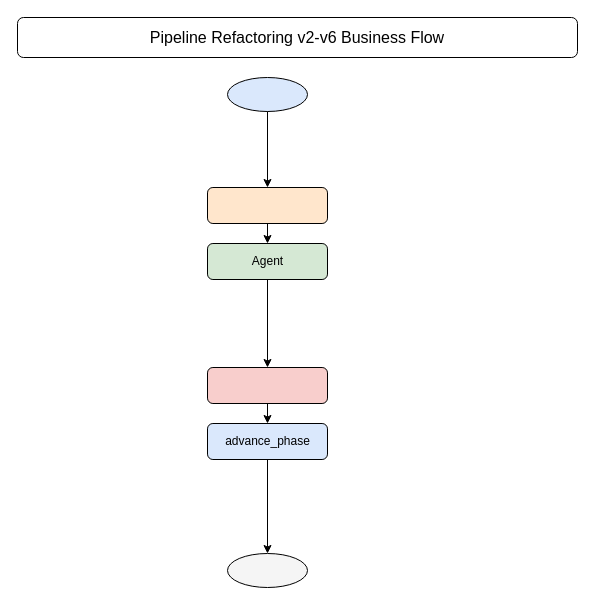
Some shapes in this 595 by 605 pixel diagram are drawn without their labels. Each missing label, with the centre of its shape:
"Gate" goes at point 267,385.
"SM" goes at point 267,205.
